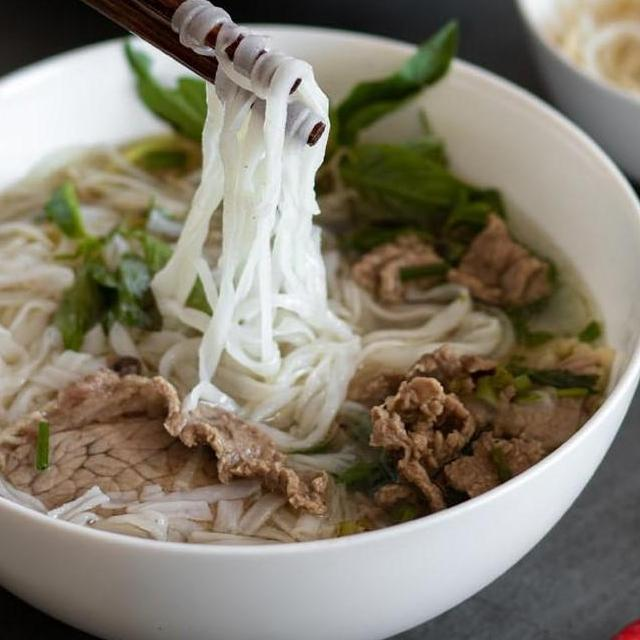banh pho: (131, 0, 364, 454), (0, 137, 195, 415), (38, 474, 414, 559), (309, 282, 516, 377)
pho bo: (0, 26, 640, 640)
thit bo: (0, 365, 336, 522), (352, 336, 602, 519), (343, 202, 562, 329)
